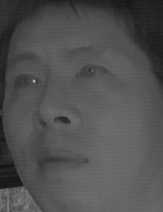eye: (76, 60, 112, 85), (11, 70, 43, 93)
mouth: (33, 145, 89, 182)
